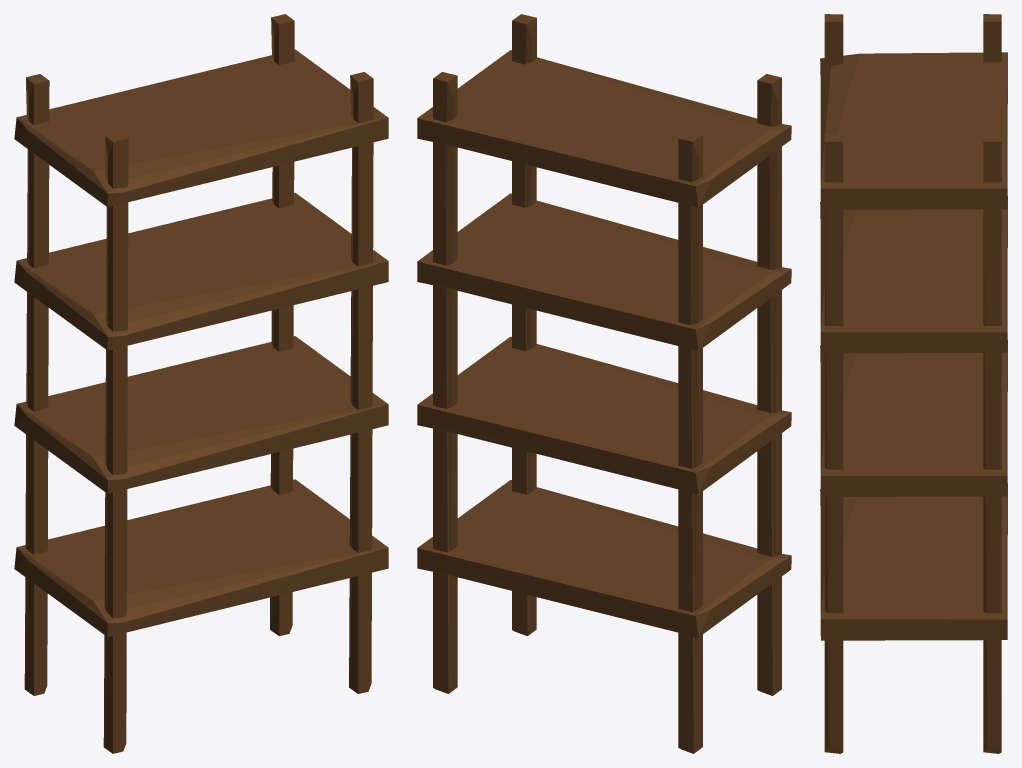
Rendered from SM_shelf_02.fbx.
3 renders of one model, left to right at view 1: azimuth 30°, elevation 25°; view 2: azimuth 150°, elevation 25°; view 3: azimuth 270°, elevation 25°, orthographic.
Visible parts, largest first — view 1: Object383; view 2: Object383; view 3: Object383.
Boxes of the visible parts, left/top/right/bottom form: Object383: left=14, top=14, right=388, bottom=753; Object383: left=417, top=14, right=791, bottom=753; Object383: left=820, top=14, right=1007, bottom=753.
Size of the model in its own units: 42.74 by 88.9 by 24.67.
